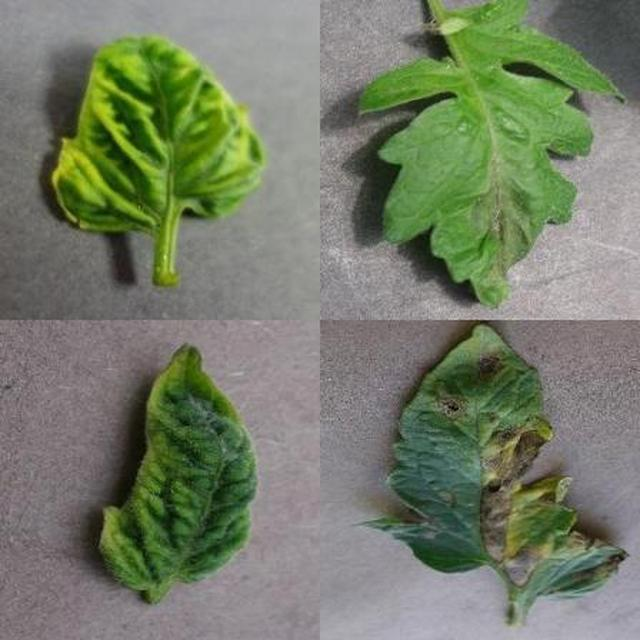Yellow Leaf Curl Virus: (222, 194, 640, 640)
